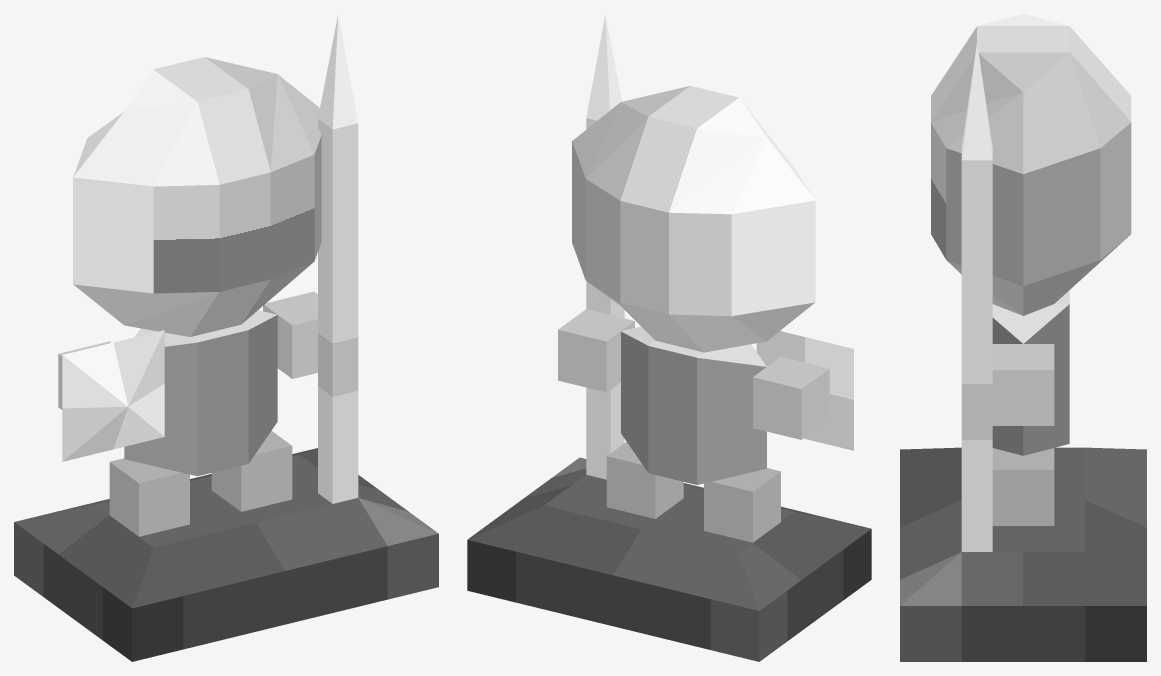
Rendered from statue_a.gltf.
The picture shows the model from 3 angles, left to right: view 1: azimuth 30°, elevation 25°; view 2: azimuth 150°, elevation 25°; view 3: azimuth 270°, elevation 25°; orthographic projection. The views are drawn at different scales.
Parts seen in each view (by area): view 1: statue_a; view 2: statue_a; view 3: statue_a.
Part boxes in pixels (x1,y1,x2,y2): statue_a: (14, 14, 438, 661); statue_a: (467, 14, 871, 661); statue_a: (900, 14, 1146, 661).
Size of the model in its own units: 0.8125 by 1.31 by 0.5.
